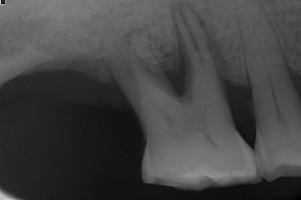Dental Caries: (188, 0, 229, 85), (156, 38, 189, 97), (170, 0, 179, 37)
